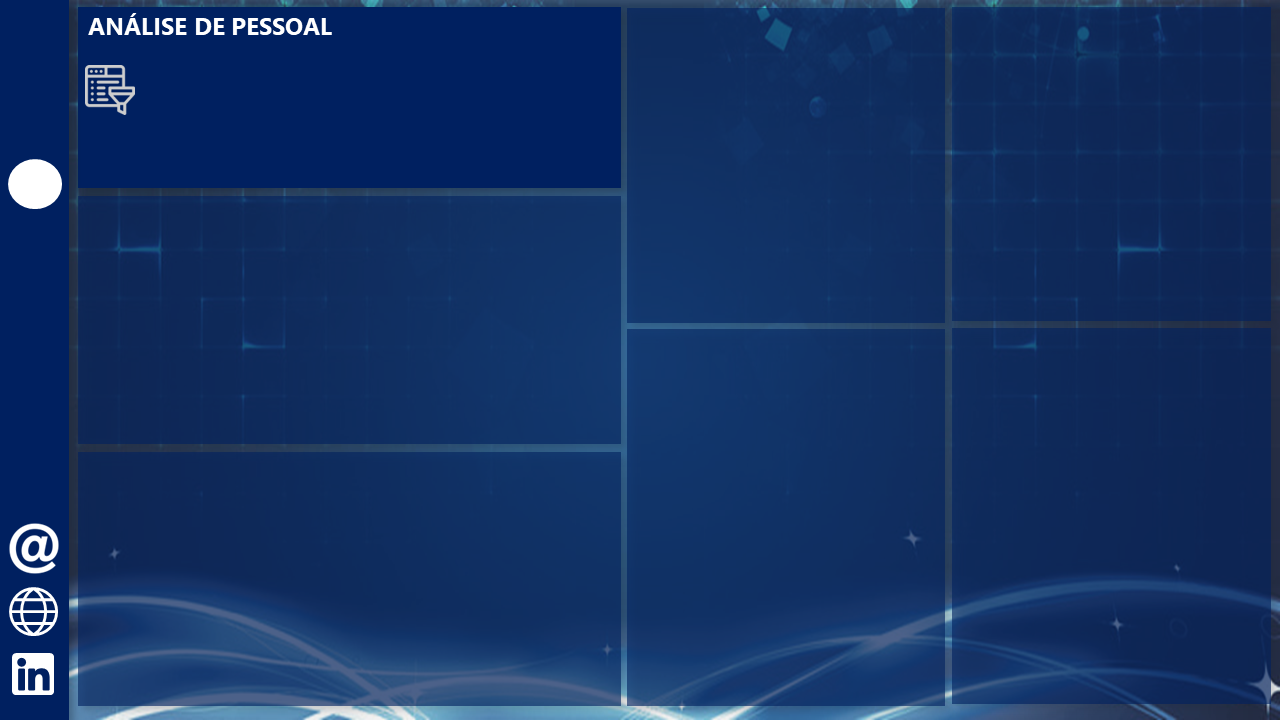

What the dashboard file says about the page in this screenshot:
{"tool":"powerbi","page":{"name":"Análise Pessoal","canvas":[1280,720],"ordinal":1},"visuals":[{"type":"actionButton","box":[7.1,590.5,55,51.4],"z":0},{"type":"actionButton","box":[7.1,642,55,59.4],"z":1000},{"type":"image","box":[0,208.4,69.2,69.2],"z":2000},{"type":"image","box":[10.6,158.7,51.4,49.7],"z":3000},{"type":"image","box":[3.5,9.8,62.1,62.1],"z":4000},{"type":"columnChart","title":"Funcionário por Escolaridade","fields":{"Category":["Tab_Colaboradores.Escolaridade"],"Y":["Medidas.Qtde Funcionários"],"Series":["Tab_Colaboradores.Genero"]},"box":[80.7,197.4,539.8,245.1],"z":5000},{"type":"columnChart","title":"Funcionário por Setor","fields":{"Y":["Medidas.Qtde Funcionários"],"Series":["Tab_Colaboradores.Genero"],"Category":["Tab_Colaboradores.Setor"]},"box":[80.7,456.2,539.8,245.1],"z":6000},{"type":"barChart","title":"Funcionário por Cargo","fields":{"Category":["Tab_Colaboradores.Cargo"],"Y":["Medidas.Qtde Funcionários"],"Series":["Tab_Colaboradores.Genero"]},"box":[629.3,330.7,315.1,370.6],"z":7000},{"type":"columnChart","title":"Funcionário por Cidade","fields":{"Category":["Tab_Colaboradores.Cidade"],"Y":["Medidas.Qtde Funcionários"],"Series":["Tab_Colaboradores.Genero"]},"box":[953.2,330.7,315.1,370.6],"z":8000},{"type":"donutChart","title":"Funcionário por Gênero","fields":{"Y":["Medidas.Qtde Funcionários"],"Series":["Tab_Colaboradores.Genero"]},"box":[629.3,9.7,315.1,310.3],"z":9000},{"type":"card","fields":{"Values":["Medidas.Qtde Funcionários"]},"box":[721.7,131.3,130.3,111.9],"z":10000},{"type":"columnChart","title":"Funcionário por Faixa Etária","fields":{"Y":["Medidas.Qtde Funcionários"],"Series":["Tab_Colaboradores.Genero"],"Category":["Tab_Colaboradores.Faixa Etária"]},"box":[953.2,9.7,315.1,310.3],"z":11000},{"type":"slicer","fields":{"Values":["Tab_Colaboradores.Setor"]},"box":[143,49.6,152.7,65.2],"z":12000},{"type":"slicer","fields":{"Values":["Tab_Colaboradores.Genero"]},"box":[295.7,49.6,152.7,65.2],"z":13000},{"type":"slicer","fields":{"Values":["Tab_Colaboradores.Escolaridade"]},"box":[448.4,49.6,152.7,65.2],"z":14000},{"type":"slicer","fields":{"Values":["Tab_Colaboradores.Cargo"]},"box":[143,114.8,152.7,65.2],"z":15000},{"type":"slicer","fields":{"Values":["Tab_Colaboradores.Faixa Etária"]},"box":[295.7,114.8,152.7,65.2],"z":16000},{"type":"slicer","fields":{"Values":["Tab_Colaboradores.Estado"]},"box":[448.4,114.8,152.7,65.2],"z":17000}]}

Visuals, with their boxes in screenshot pixels (x1, y1, x2, y2), scaled from the page's 1280x720 canvas onto the 1280x720 screenshot:
actionButton: (left=7, top=590, right=62, bottom=642)
actionButton: (left=7, top=642, right=62, bottom=701)
image: (left=0, top=208, right=69, bottom=278)
image: (left=11, top=159, right=62, bottom=208)
image: (left=4, top=10, right=66, bottom=72)
"Funcionário por Escolaridade" columnChart: (left=81, top=197, right=620, bottom=442)
"Funcionário por Setor" columnChart: (left=81, top=456, right=620, bottom=701)
"Funcionário por Cargo" barChart: (left=629, top=331, right=944, bottom=701)
"Funcionário por Cidade" columnChart: (left=953, top=331, right=1268, bottom=701)
"Funcionário por Gênero" donutChart: (left=629, top=10, right=944, bottom=320)
card - Medidas.Qtde Funcionários: (left=722, top=131, right=852, bottom=243)
"Funcionário por Faixa Etária" columnChart: (left=953, top=10, right=1268, bottom=320)
slicer - Tab_Colaboradores.Setor: (left=143, top=50, right=296, bottom=115)
slicer - Tab_Colaboradores.Genero: (left=296, top=50, right=448, bottom=115)
slicer - Tab_Colaboradores.Escolaridade: (left=448, top=50, right=601, bottom=115)
slicer - Tab_Colaboradores.Cargo: (left=143, top=115, right=296, bottom=180)
slicer - Tab_Colaboradores.Faixa Etária: (left=296, top=115, right=448, bottom=180)
slicer - Tab_Colaboradores.Estado: (left=448, top=115, right=601, bottom=180)
